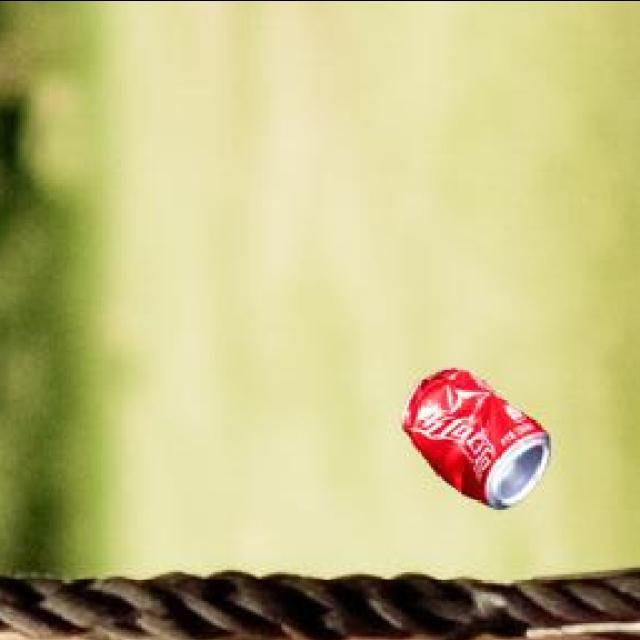logam: (399, 370, 546, 512)
